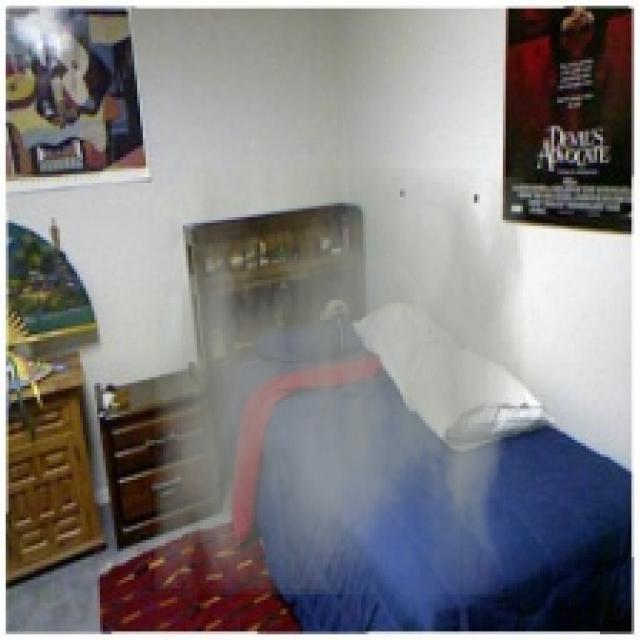Smoke: (154, 168, 526, 594)
